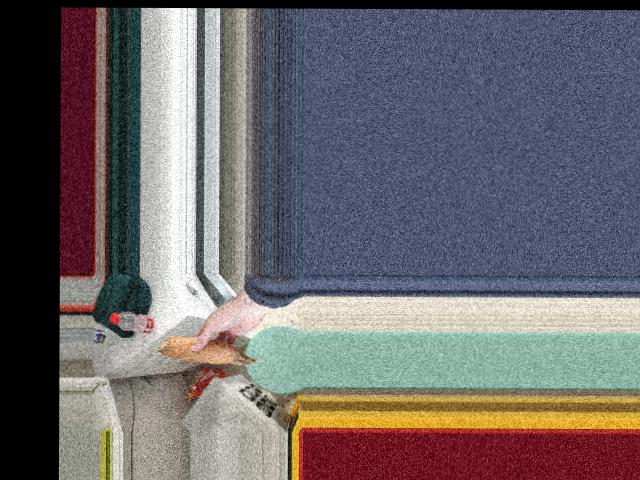sweet_potato: (154, 340, 262, 367)
